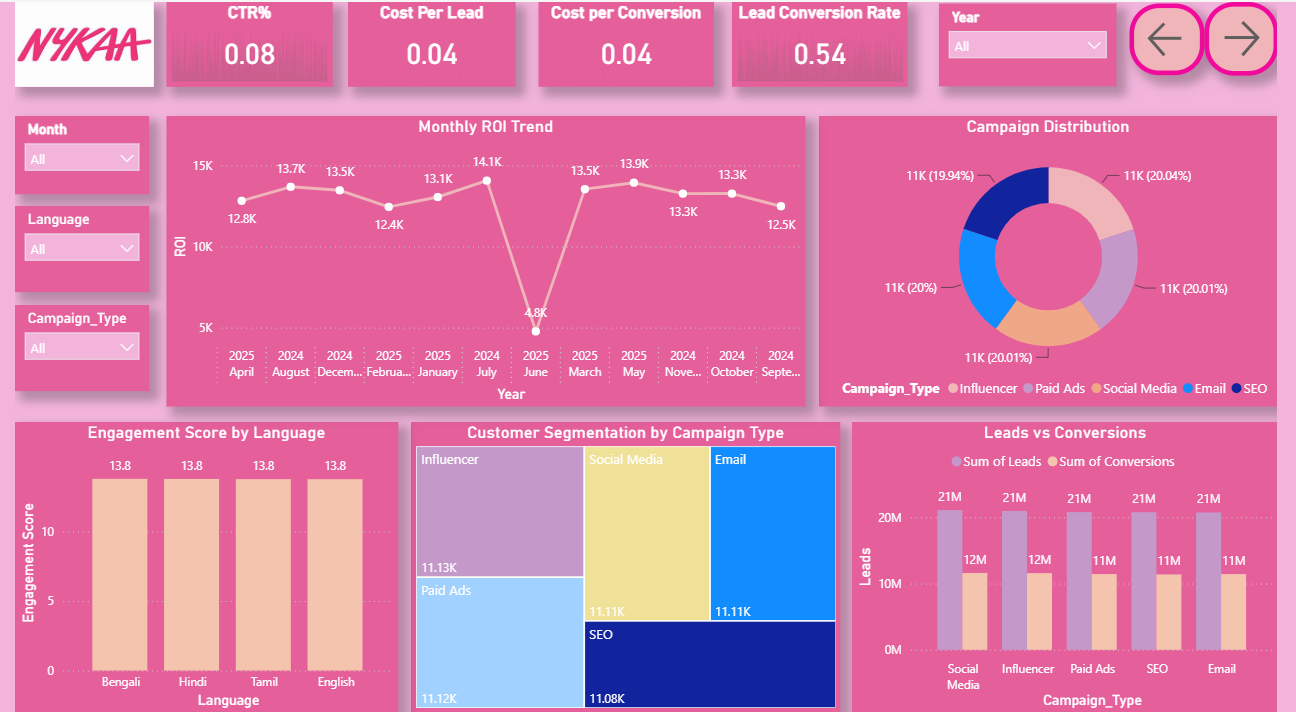

What the dashboard file says about the page in this screenshot:
{"tool":"powerbi","page":{"name":"Page 2","canvas":[1280,720],"ordinal":1},"visuals":[{"type":"treemap","title":"Customer Segmentation by Campaign Type","fields":{"Group":["nykaa_campaign_data.Campaign_Type"],"Values":["CountNonNull(nykaa_campaign_data.Customer_Segment)"]},"box":[401.6,425.9,435.6,294.7],"z":0},{"type":"image","box":[0,0,140.9,85.8],"z":1000},{"type":"actionButton","box":[1130.2,1.6,76.1,72.9],"z":2000},{"type":"donutChart","title":"Campaign Distribution","fields":{"Category":["nykaa_campaign_data.Campaign_Type"],"Y":["nykaa_campaign_data.Campaign Count"]},"box":[816.1,115,464.7,294.7],"z":3000},{"type":"clusteredColumnChart","title":"Engagement Score by Language","fields":{"Y":["nykaa_campaign_data.Average Engagement Score"],"Category":["nykaa_campaign_data.Language"]},"box":[0,425.9,388.6,294.7],"z":4000},{"type":"clusteredColumnChart","title":" Leads vs Conversions","fields":{"Category":["nykaa_campaign_data.Campaign_Type"],"Y":["Sum(nykaa_campaign_data.Leads)","Sum(nykaa_campaign_data.Conversions)"]},"box":[848.5,425.9,432.3,294.7],"z":5000},{"type":"kpi","title":"CTR%","fields":{"Indicator":["nykaa_campaign_data.CTR%"],"TrendLine":["nykaa_campaign_data.Campaign_ID"]},"box":[153.8,0,168.4,85.8],"z":6000},{"type":"kpi","title":"Cost Per Lead","fields":{"Indicator":["nykaa_campaign_data.Cost Per Lead"],"TrendLine":["nykaa_campaign_data.Campaign_ID"]},"box":[338.4,0,170,85.8],"z":7000},{"type":"kpi","title":"Cost per Conversion","fields":{"Indicator":["nykaa_campaign_data.Cost per Conversion"],"TrendLine":["nykaa_campaign_data.Campaign_ID"]},"box":[531.1,0,178.1,85.8],"z":8000},{"type":"kpi","title":"Lead Conversion Rate","fields":{"Indicator":["nykaa_campaign_data.Lead Conversion Rate"],"TrendLine":["nykaa_campaign_data.Campaign_ID"]},"box":[727,0,178.1,85.8],"z":9000},{"type":"lineChart","title":"Monthly ROI Trend","fields":{"Y":["Sum(nykaa_campaign_data.ROI)"],"Category":["nykaa_campaign_data.Month","nykaa_campaign_data.Year"]},"box":[153.8,115,647.7,294.7],"z":10000},{"type":"slicer","fields":{"Values":["nykaa_campaign_data.Year"]},"box":[937.5,1.6,179.7,84.2],"z":11000},{"type":"slicer","fields":{"Values":["nykaa_campaign_data.Month"]},"box":[0,115,136,79.3],"z":12000},{"type":"slicer","fields":{"Values":["nykaa_campaign_data.Language"]},"box":[0,207.3,136,87.4],"z":13000},{"type":"slicer","fields":{"Values":["nykaa_campaign_data.Campaign_Type"]},"box":[0,307.7,136,87.4],"z":14000},{"type":"actionButton","box":[1206.3,0,74.5,74.5],"z":15000}]}

Visuals, with their boxes in screenshot pixels (x1, y1, x2, y2), scaled from the page's 1280x720 canvas onto the 1296x712 screenshot:
"Customer Segmentation by Campaign Type" treemap: 407, 421, 848, 711
image: 0, 0, 143, 85
actionButton: 1144, 2, 1221, 74
"Campaign Distribution" donutChart: 826, 114, 1295, 405
"Engagement Score by Language" clusteredColumnChart: 0, 421, 393, 711
" Leads vs Conversions" clusteredColumnChart: 859, 421, 1295, 711
"CTR%" kpi: 156, 0, 326, 85
"Cost Per Lead" kpi: 343, 0, 515, 85
"Cost per Conversion" kpi: 538, 0, 718, 85
"Lead Conversion Rate" kpi: 736, 0, 916, 85
"Monthly ROI Trend" lineChart: 156, 114, 812, 405
slicer - nykaa_campaign_data.Year: 949, 2, 1131, 85
slicer - nykaa_campaign_data.Month: 0, 114, 138, 192
slicer - nykaa_campaign_data.Language: 0, 205, 138, 291
slicer - nykaa_campaign_data.Campaign_Type: 0, 304, 138, 391
actionButton: 1221, 0, 1295, 74
